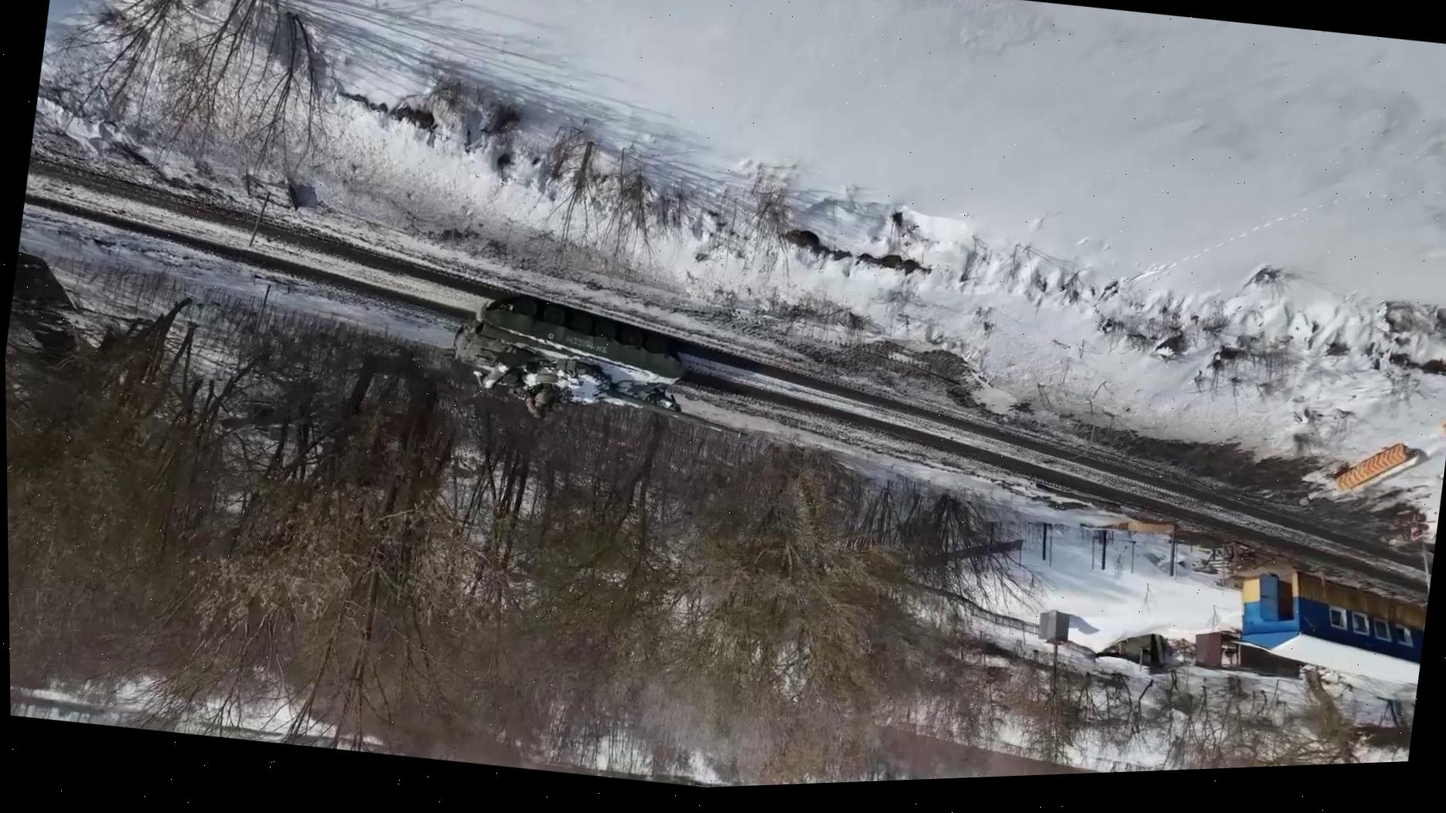tank: (442, 278, 766, 459)
